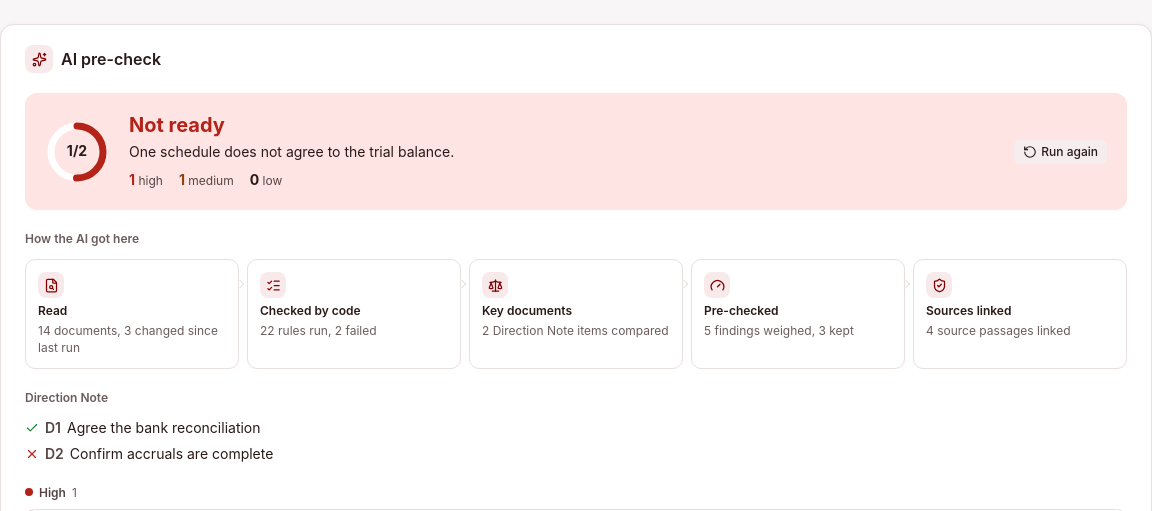
it: PrecheckPanel states › a trail step opens to its detail
Click the button "Checked by code 22 rules run, 2 failed".
click(354, 314)  # box [247, 259, 461, 369]
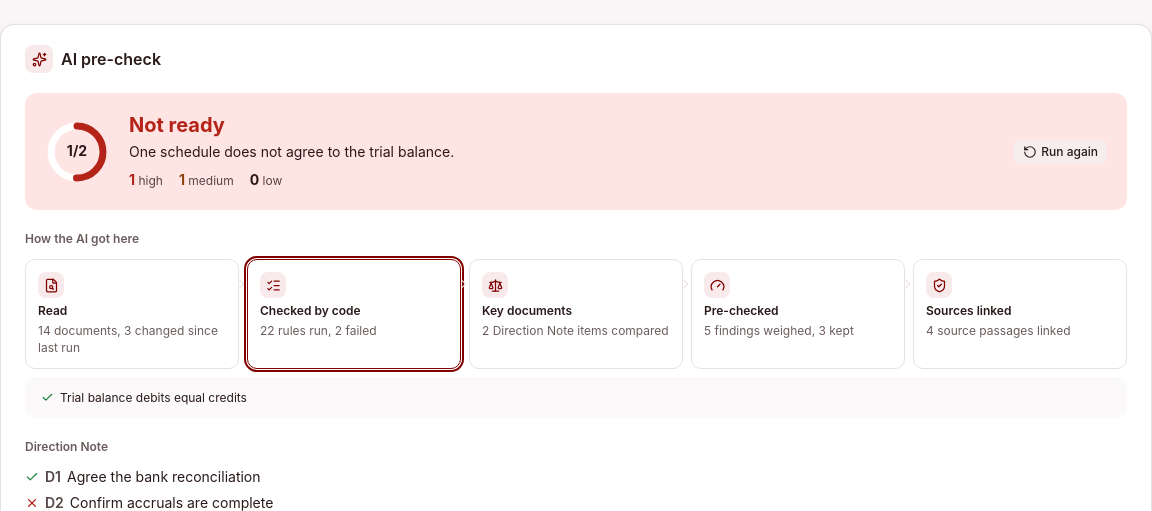
Check: the text "Trial balance debits equal credits" is shown, box [60, 389, 247, 406]
Click the button "Sources linked 4 source passages linked".
click(1020, 314)  # box [913, 259, 1127, 369]
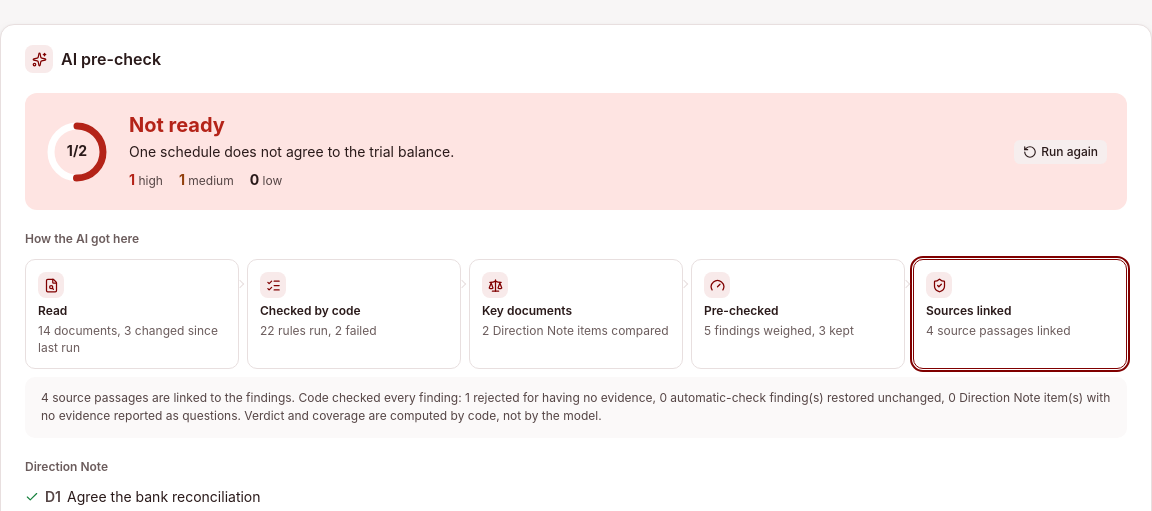
Check: the text "1 rejected for having no evidence" is shown, box [41, 389, 1111, 426]
